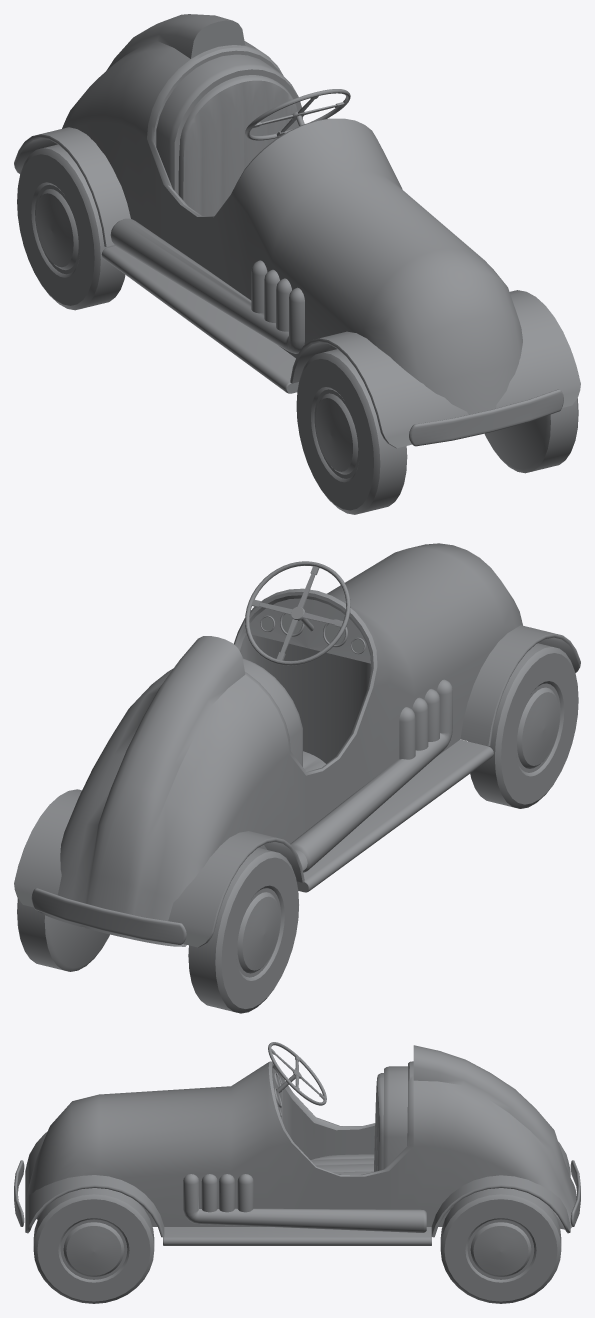
The model's file is monopoly_car.glb.
The picture shows the model from 3 angles, top to bottom: view 1: azimuth 30°, elevation 25°; view 2: azimuth 150°, elevation 25°; view 3: azimuth 270°, elevation 25°; orthographic projection. The views are drawn at different scales.
Parts seen in each view (by area): view 1: Body, Wheels, Seat, Exhaust, SideSkirts, Bumbers, SteeringWheel; view 2: Body, Wheels, Exhaust, SideSkirts, DashBoard, Bumbers, SteeringWheel, Seat; view 3: Body, Wheels, Exhaust, SideSkirts, Seat, SteeringWheel, Bumbers.
Boxes of the visible parts, <box> form: Body: <box>14,14,580,448</box>; Wheels: <box>17,144,578,514</box>; Seat: <box>156,54,302,215</box>; Exhaust: <box>110,218,304,353</box>; SideSkirts: <box>101,246,298,393</box>; Bumbers: <box>409,389,563,446</box>; SteeringWheel: <box>245,89,350,140</box>; Body: <box>14,543,580,947</box>; Wheels: <box>17,643,578,1013</box>; Exhaust: <box>290,679,452,872</box>; SideSkirts: <box>296,739,493,892</box>; DashBoard: <box>244,598,370,663</box>; Bumbers: <box>31,888,186,944</box>; SteeringWheel: <box>245,561,350,665</box>; Seat: <box>242,658,325,771</box>; Body: <box>25,1045,576,1237</box>; Wheels: <box>33,1188,561,1303</box>; Exhaust: <box>183,1174,426,1232</box>; SideSkirts: <box>163,1227,431,1245</box>; Seat: <box>311,1066,407,1174</box>; SteeringWheel: <box>268,1042,326,1105</box>; Bumbers: <box>14,1160,580,1226</box>.
Size of the model in its own units: 1.49 by 2.05 by 4.74.
1 material, 1 textured.
